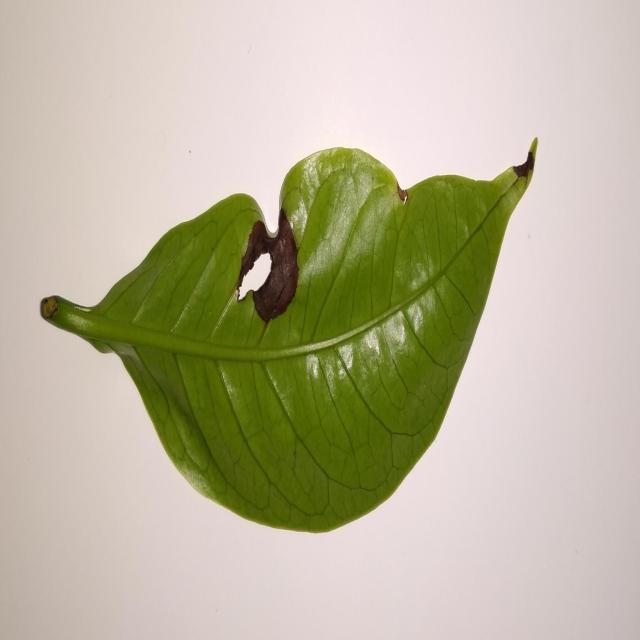phoma: (236, 208, 299, 327), (511, 138, 538, 184), (396, 180, 408, 206)
